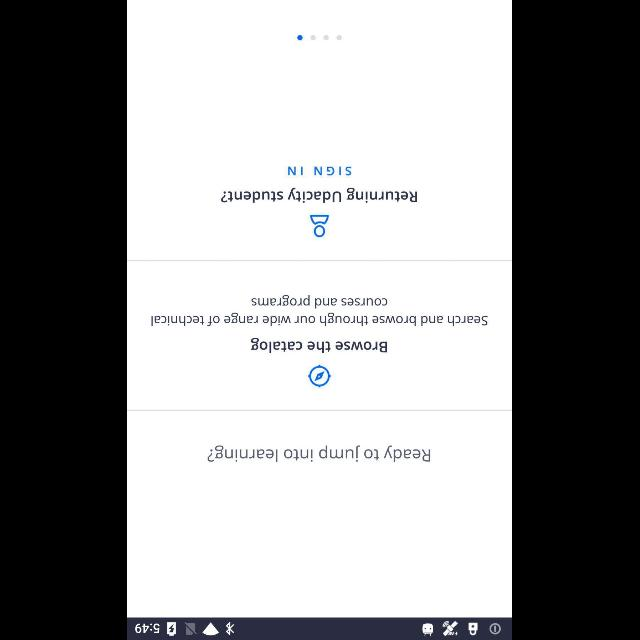icon: (308, 364, 332, 388), (310, 215, 330, 238)
pageindicator: (297, 34, 343, 41)
text: (152, 294, 488, 326), (208, 444, 432, 462), (222, 188, 418, 204), (252, 337, 388, 353), (288, 166, 352, 176)
uppertaskbar: (128, 617, 512, 639)
